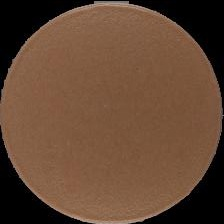61786-822: (0, 0, 224, 224)
